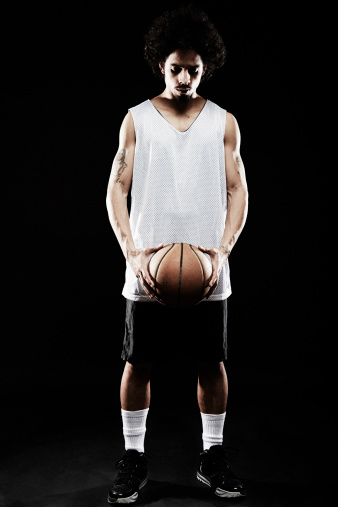em pe: (104, 8, 253, 507)
